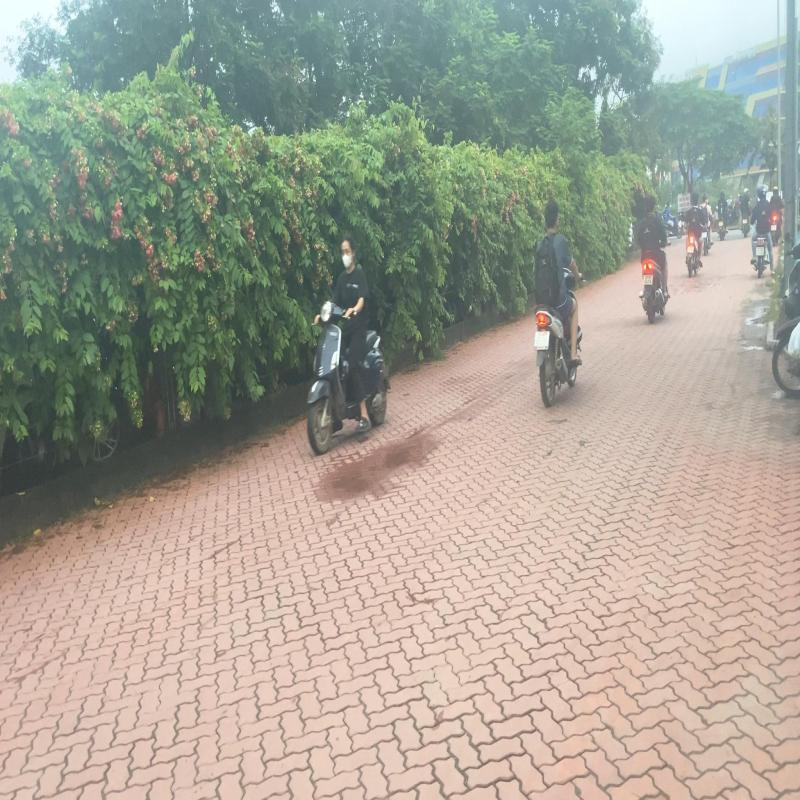licenseplate: (534, 330, 550, 351)
motorcyclist: (531, 196, 587, 408)
nohelmet: (544, 200, 559, 229)
